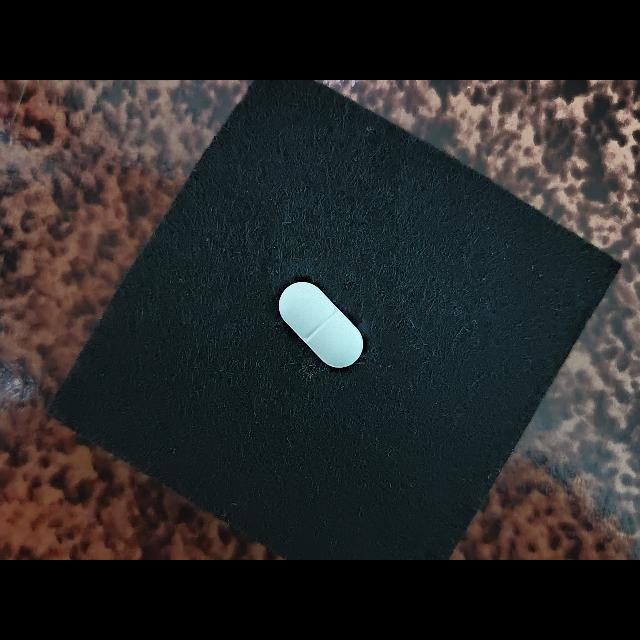Intact Pill: (278, 282, 363, 368)
